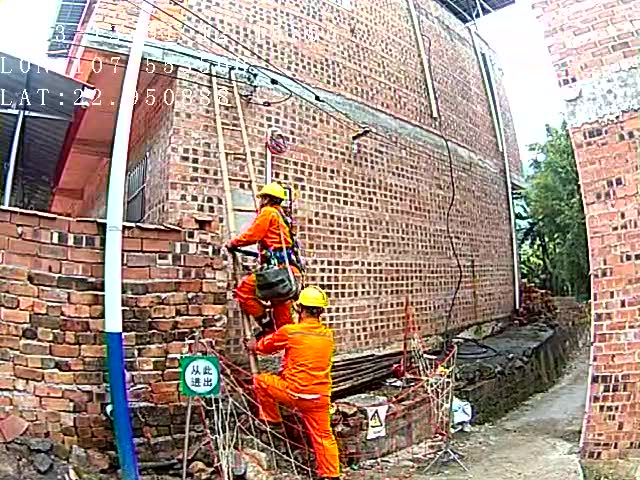halt: (298, 289, 330, 322), (259, 187, 288, 211)
